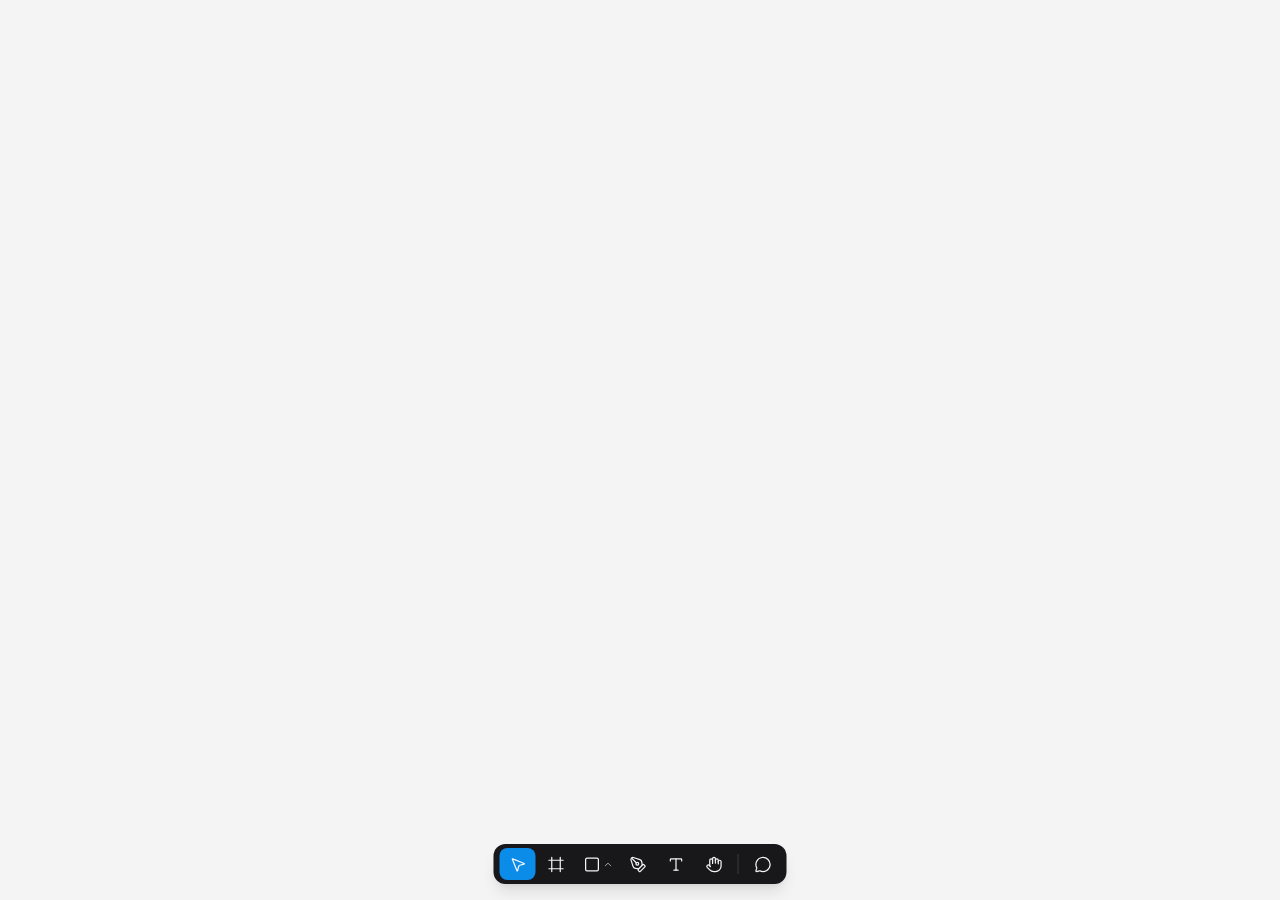
Test: BottomToolbar › closes the flyout on outside pointerdown
Click the button with test id "tool-shape": (596, 864) 576,848 -> 618,880
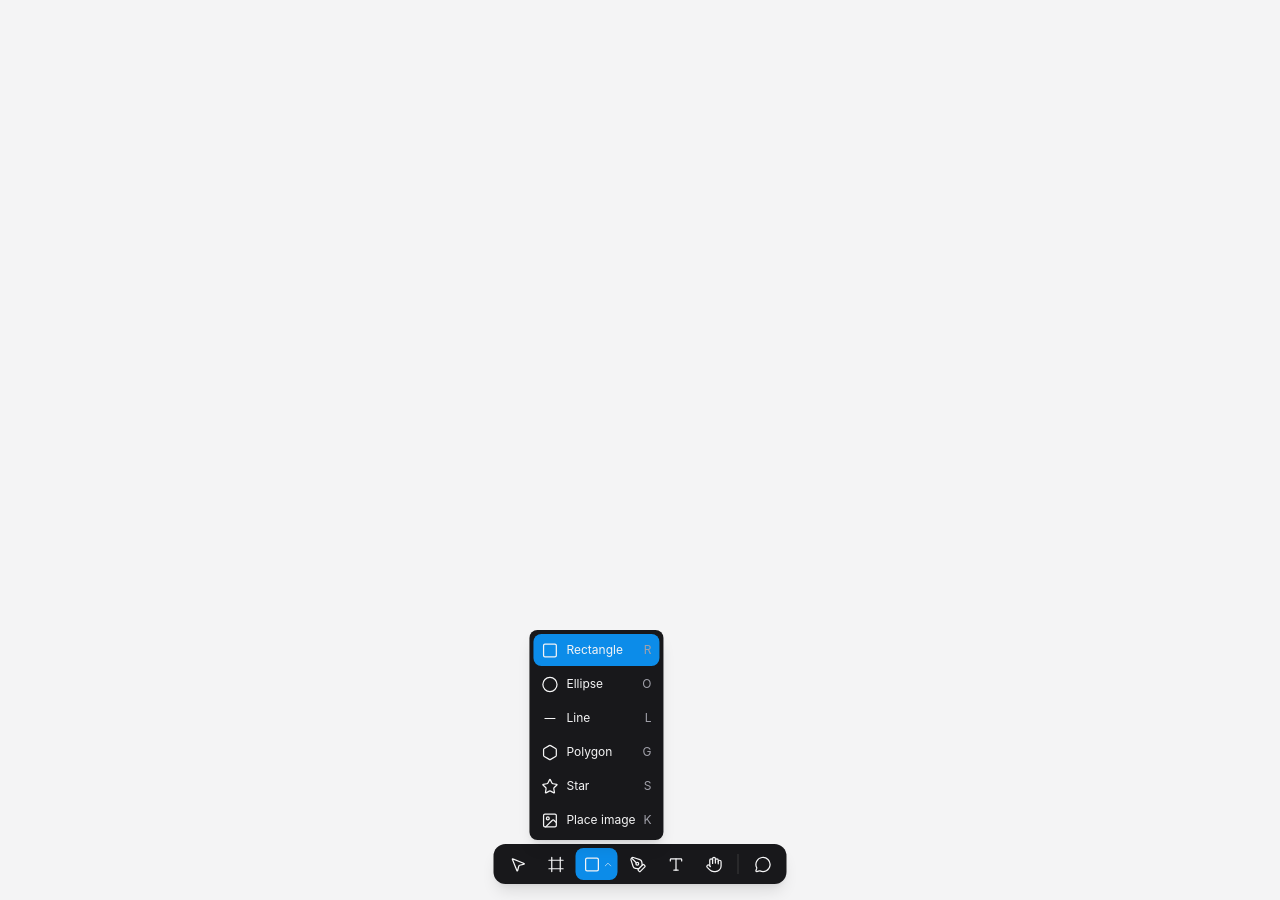
Press the mouse on the element showing "Rectangle R Ellipse O Line L Polygon G Star S Place image K": (640, 450) 0,0 -> 1279,899
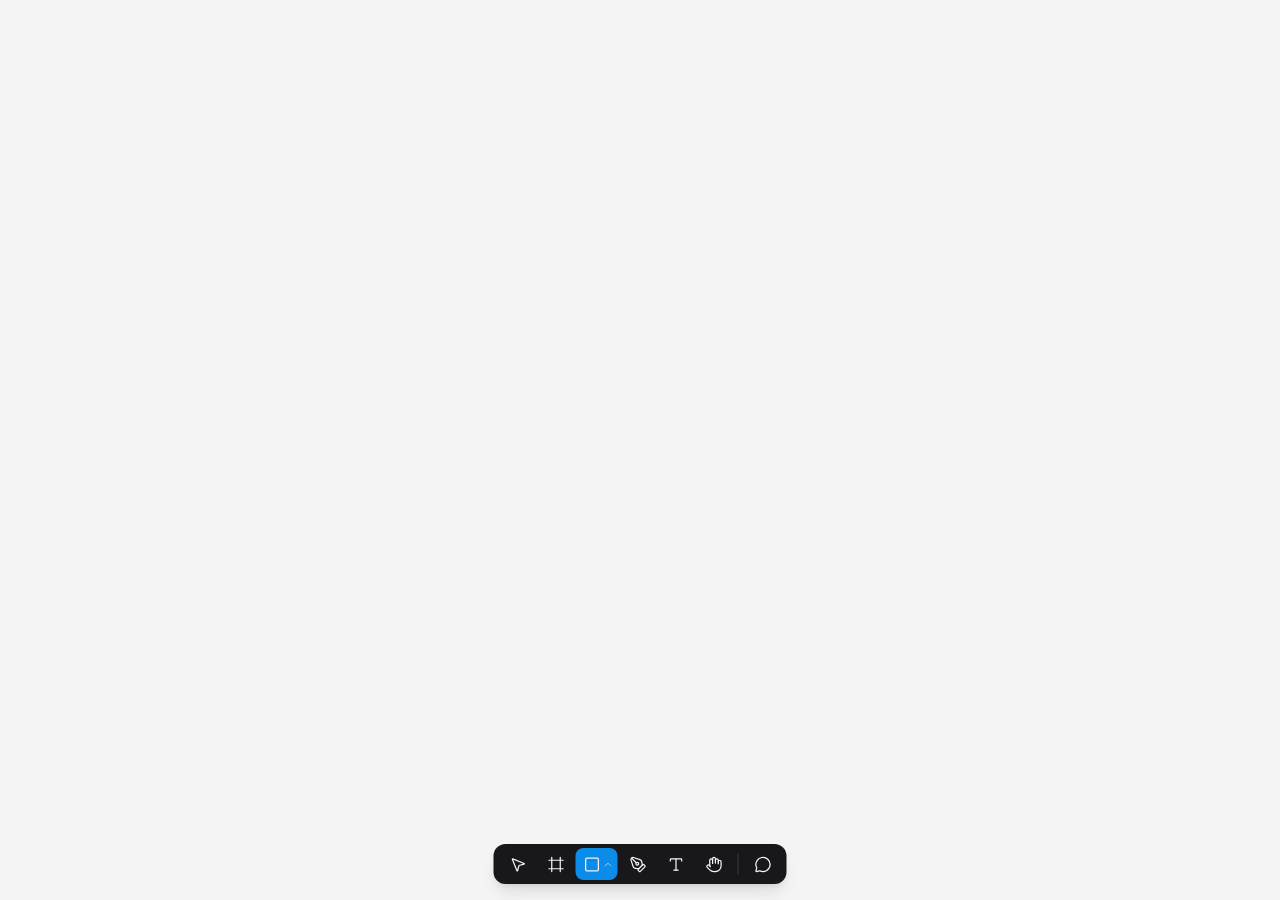
Expected: the menu with test id "shape-flyout" is gone
